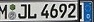character: (17, 3, 27, 19), (27, 3, 37, 18), (58, 3, 67, 19), (40, 3, 49, 18), (67, 3, 76, 18), (50, 3, 58, 18)
